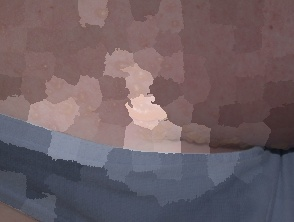SJS-TEN: (0, 0, 294, 175)
